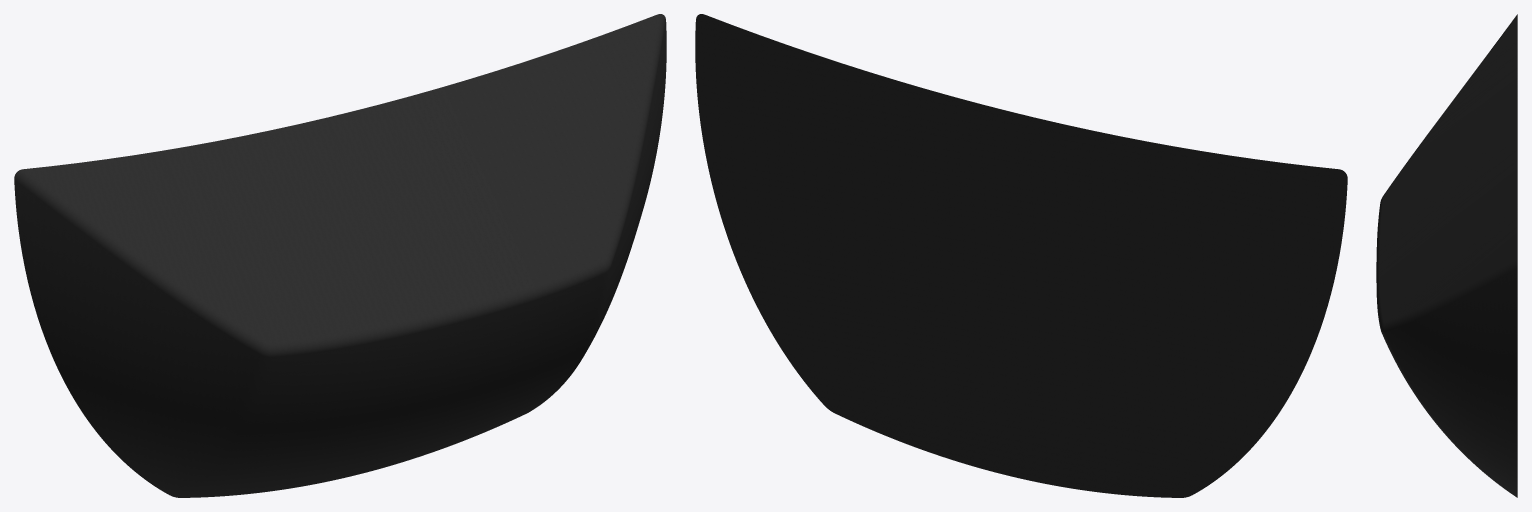
File: hold_under_gray.glb
The picture shows the model from 3 angles, left to right: view 1: azimuth 30°, elevation 25°; view 2: azimuth 150°, elevation 25°; view 3: azimuth 270°, elevation 25°; orthographic projection. The views are drawn at different scales.
Visible parts, largest first — view 1: Object_2; view 2: Object_2; view 3: Object_2.
Boxes of the visible parts, left/top/right/bottom form: Object_2: left=14, top=14, right=666, bottom=497; Object_2: left=695, top=14, right=1347, bottom=497; Object_2: left=1376, top=14, right=1517, bottom=497.
Bounding box in the file's own units: 541 × 307 × 129.
Materials: 1 (1 with a texture image).
